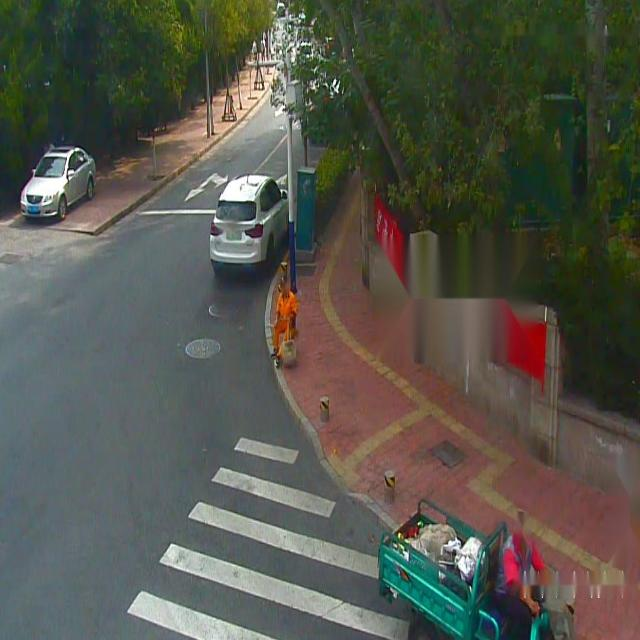car: (374, 492, 572, 638)
